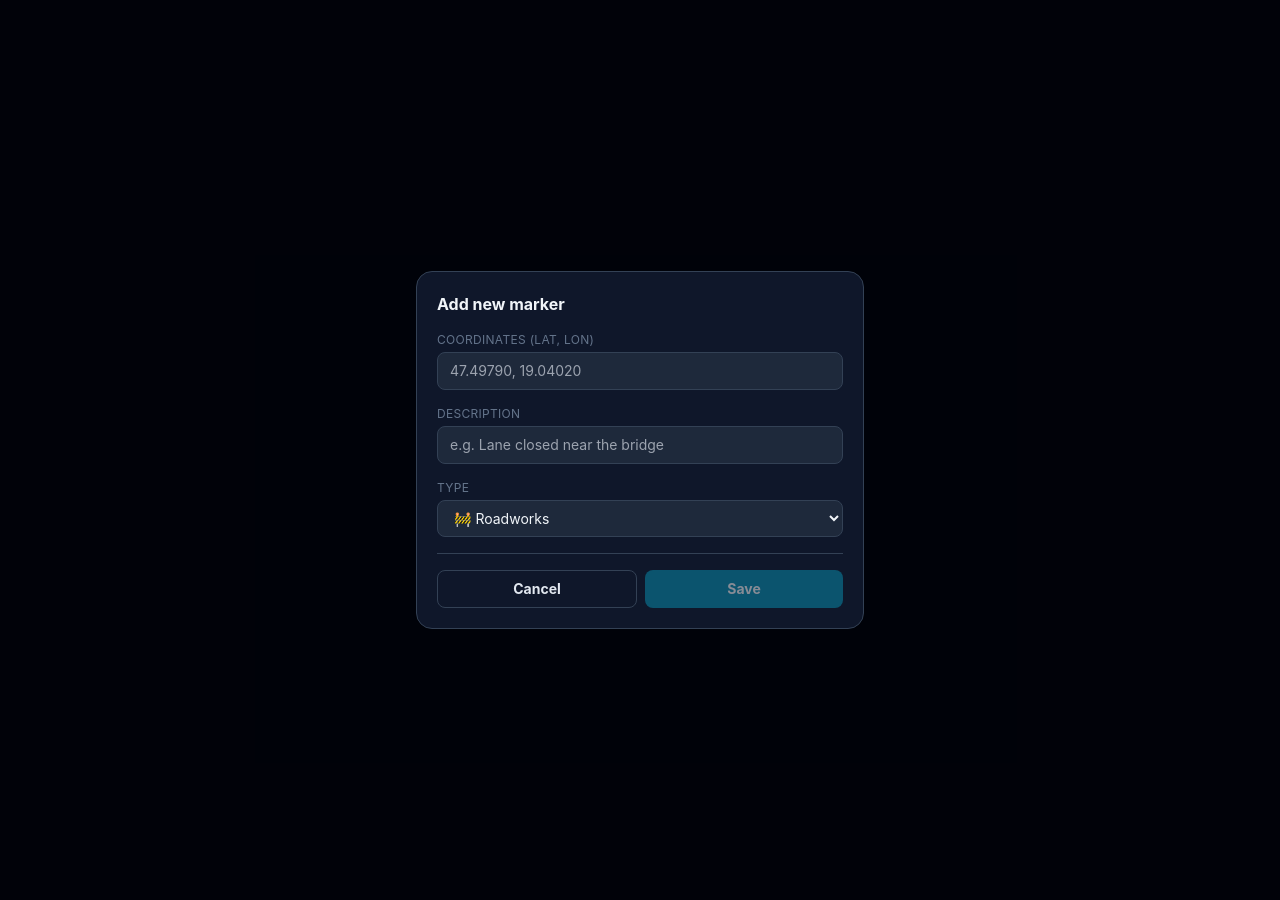
Test: AddMarkerDialog › shows an error for invalid coordinates
This screenshot has width=1280, height=900.
Type "not valid" into the field with placeholder "47.49790, 19.04020". click: (640, 371)
box: [437,352,843,390]
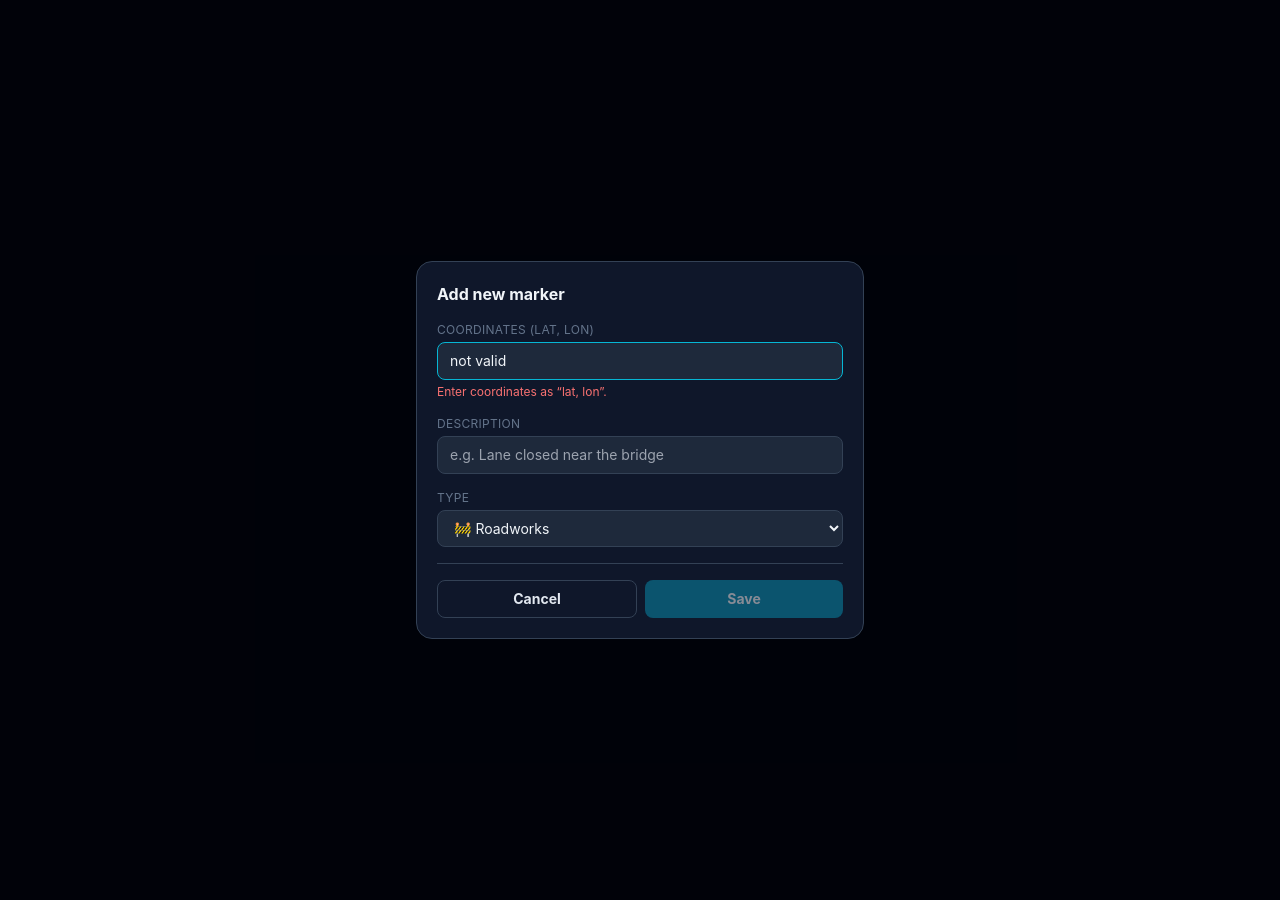
Now the text "Enter coordinates as “lat, lon”." is shown, box [437,384,607,399]
